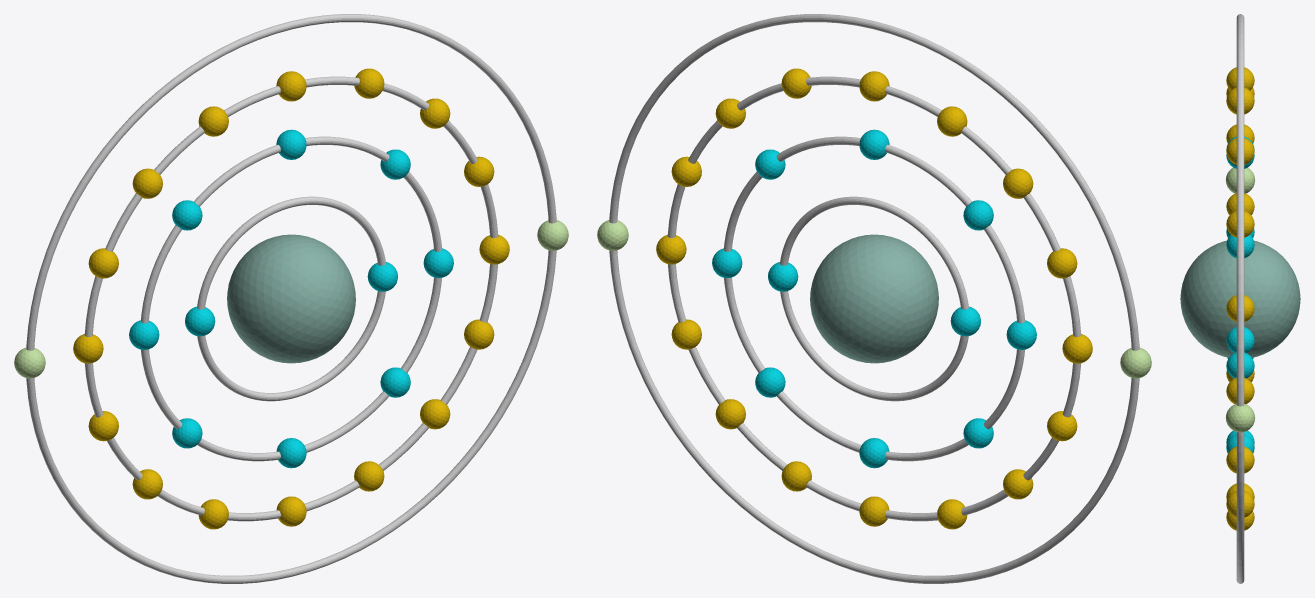
3 renders of one model, left to right at view 1: azimuth 30°, elevation 25°; view 2: azimuth 150°, elevation 25°; view 3: azimuth 270°, elevation 25°, orthographic. The views are drawn at different scales.
Parts seen in each view (by area): view 1: Camada_4, Nucleo_Ni, Camada_3, Camada_2, Camada_1, e4_2, e4_1, e2_4, e2_8, e3_7, e3_8, e3_15 (+21 smaller); view 2: Camada_4, Nucleo_Ni, Camada_3, Camada_2, Camada_1, e4_2, e4_1, e2_4, e2_8, e3_7, e3_8, e3_15 (+21 smaller); view 3: Nucleo_Ni, Camada_4, e4_1, e4_2, e3_2, e3_16, e3_5, e1_1, e3_3, e3_15, e2_1, e3_1 (+7 smaller).
Part boxes in pixels (x1,y1,x2,y2): Camada_4: (26,14,556,583); Nucleo_Ni: (227,234,355,363); Camada_3: (84,76,498,521); Camada_2: (140,136,442,461); Camada_1: (197,196,385,401); e4_2: (14,347,45,378); e4_1: (537,220,568,250); e2_4: (172,200,202,230); e2_8: (380,367,410,397); e3_7: (132,168,162,198); e3_8: (88,248,118,278); e3_15: (420,399,450,429); Camada_4: (609,14,1139,583); Nucleo_Ni: (810,234,938,363); Camada_3: (667,76,1081,521); Camada_2: (723,136,1025,461); Camada_1: (780,196,968,401); e4_2: (1120,347,1151,378); e4_1: (597,220,628,250); e2_4: (963,200,993,230); e2_8: (755,367,785,397); e3_7: (1003,168,1033,198); e3_8: (1047,248,1077,278); e3_15: (715,399,745,429); Nucleo_Ni: (1180,240,1300,357); Camada_4: (1236,14,1244,583); e4_1: (1225,404,1255,432); e4_2: (1225,167,1255,193); e3_2: (1226,295,1254,321); e3_16: (1226,446,1254,473); e3_5: (1226,87,1254,114); e1_1: (1226,327,1254,352); e3_3: (1226,211,1254,237); e3_15: (1226,491,1254,517); e2_1: (1226,352,1254,378); e3_1: (1226,378,1254,403).
Size of the model in its own units: 2.17 by 2.09 by 0.44.
